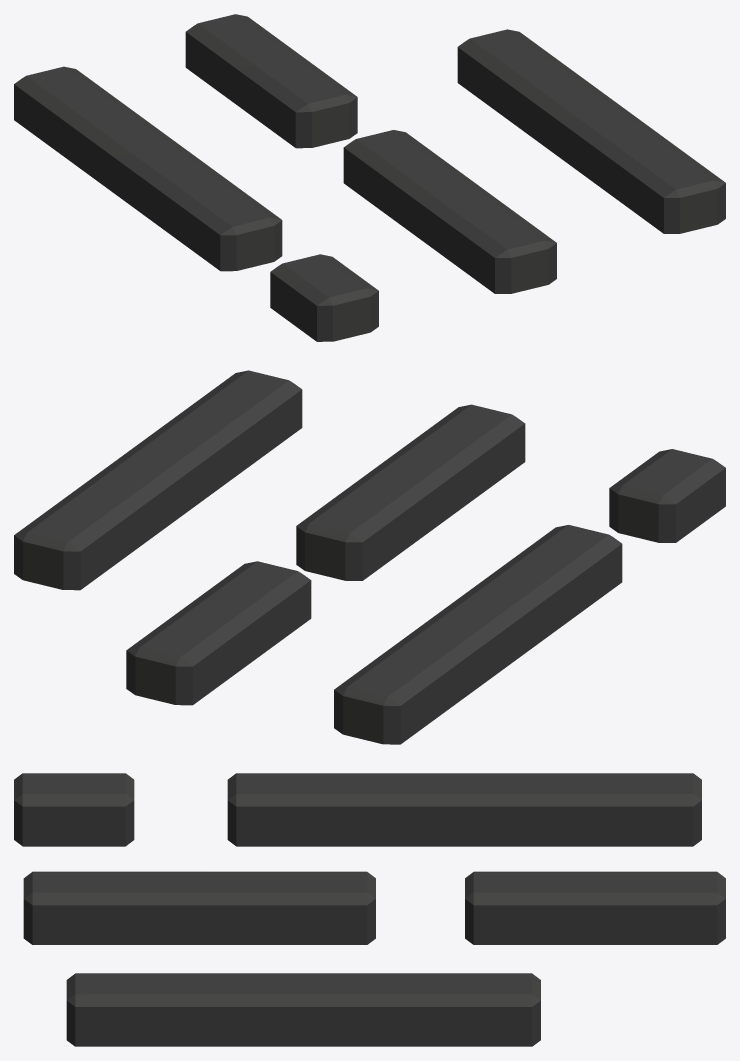
The model's file is Signs_1_1.obj.
3 views of the same model, one above another, from view 1: azimuth 30°, elevation 25°; view 2: azimuth 150°, elevation 25°; view 3: azimuth 270°, elevation 25° (orthographic). The views are drawn at different scales.
Parts seen in each view (by area): view 1: Signs_1_1; view 2: Signs_1_1; view 3: Signs_1_1.
Boxes of the visible parts, bbox=[...] form: Signs_1_1: bbox=[14, 14, 725, 341]; Signs_1_1: bbox=[14, 370, 725, 744]; Signs_1_1: bbox=[14, 773, 725, 1046].
Size of the model in its own units: 0.3627 by 0.0331 by 0.4668.
